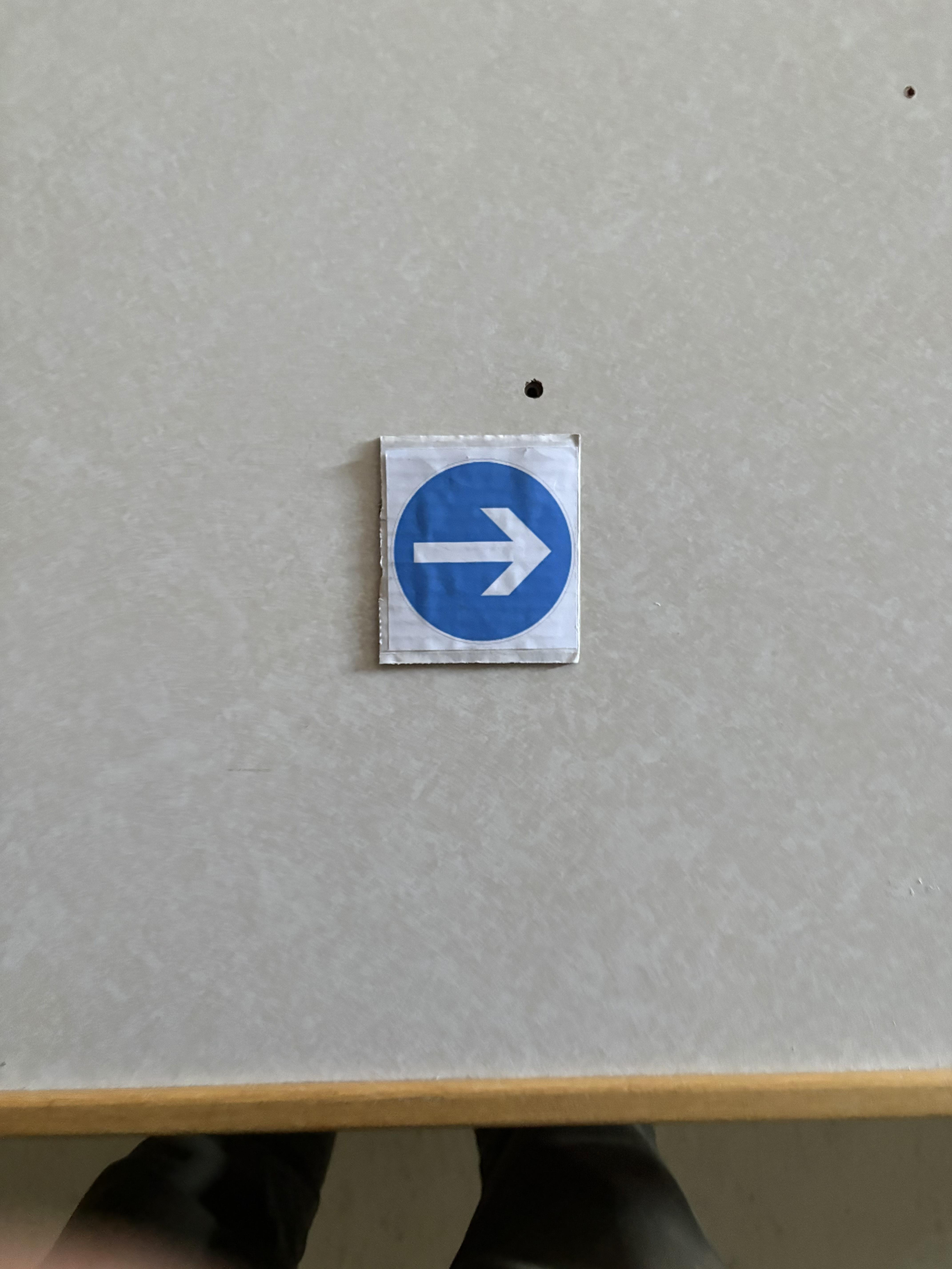Proceed Right: (381, 429, 581, 685)
